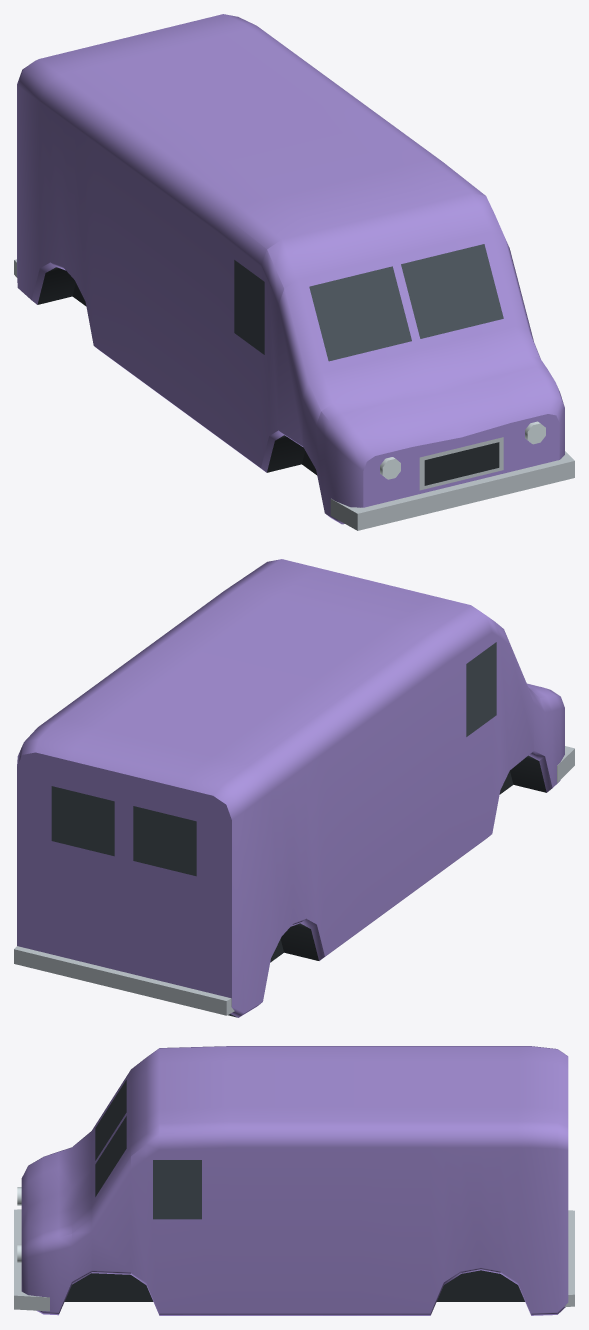
File: SM_Van.obj
The picture shows the model from 3 angles, top to bottom: view 1: azimuth 30°, elevation 25°; view 2: azimuth 150°, elevation 25°; view 3: azimuth 270°, elevation 25°; orthographic projection. The views are drawn at different scales.
Parts seen in each view (by area): view 1: Body; view 2: Body; view 3: Body.
Boxes of the visible parts, <box> form: Body: <box>14,14,574,530</box>; Body: <box>14,559,574,1017</box>; Body: <box>14,1046,574,1315</box>.
Bounding box in the file's own units: 1.99 × 1.9 × 5.13.
